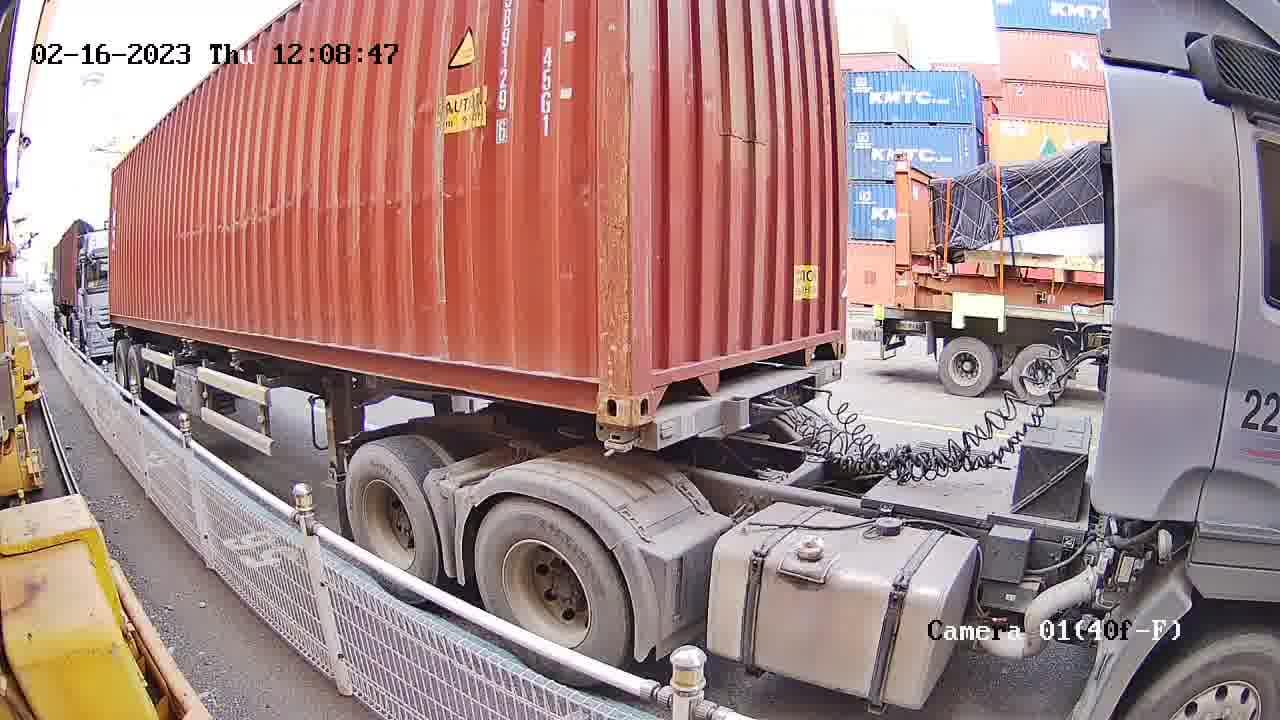Chassis: (644, 360, 842, 448)
Cone: (605, 428, 644, 458)
Hole_L: (632, 348, 680, 426)
Hole_R: (569, 353, 631, 422), (812, 316, 848, 363)
Tire: (475, 501, 627, 662), (346, 447, 439, 580)
